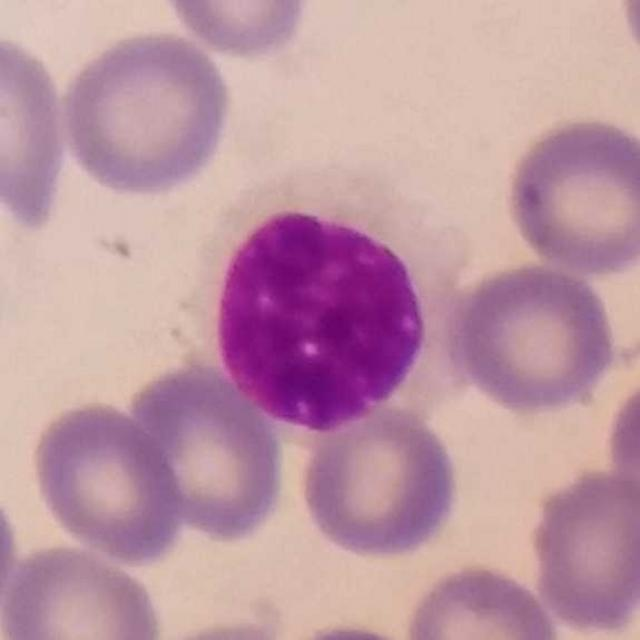Lymphocyte: (199, 158, 485, 435)
RBC: (55, 24, 238, 200), (123, 358, 290, 546), (440, 257, 621, 418), (295, 399, 465, 563), (26, 395, 187, 567), (498, 111, 640, 279), (524, 464, 640, 638), (0, 540, 166, 640), (0, 26, 73, 233), (399, 558, 566, 640), (153, 0, 318, 62), (601, 368, 640, 536), (132, 614, 298, 640), (267, 617, 429, 640), (0, 477, 22, 631), (614, 0, 640, 86)
